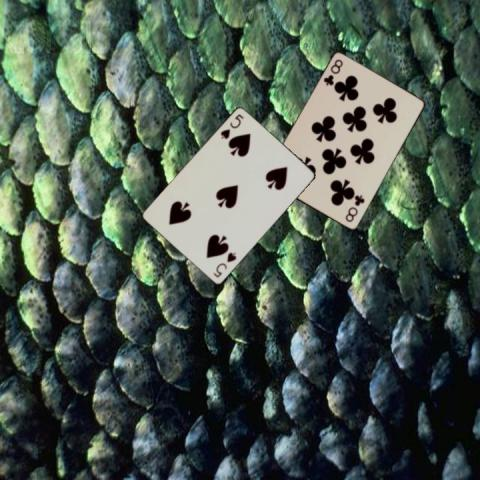5s: (210, 250, 238, 280), (217, 111, 245, 141)
8c: (342, 192, 366, 224), (320, 57, 344, 87)
